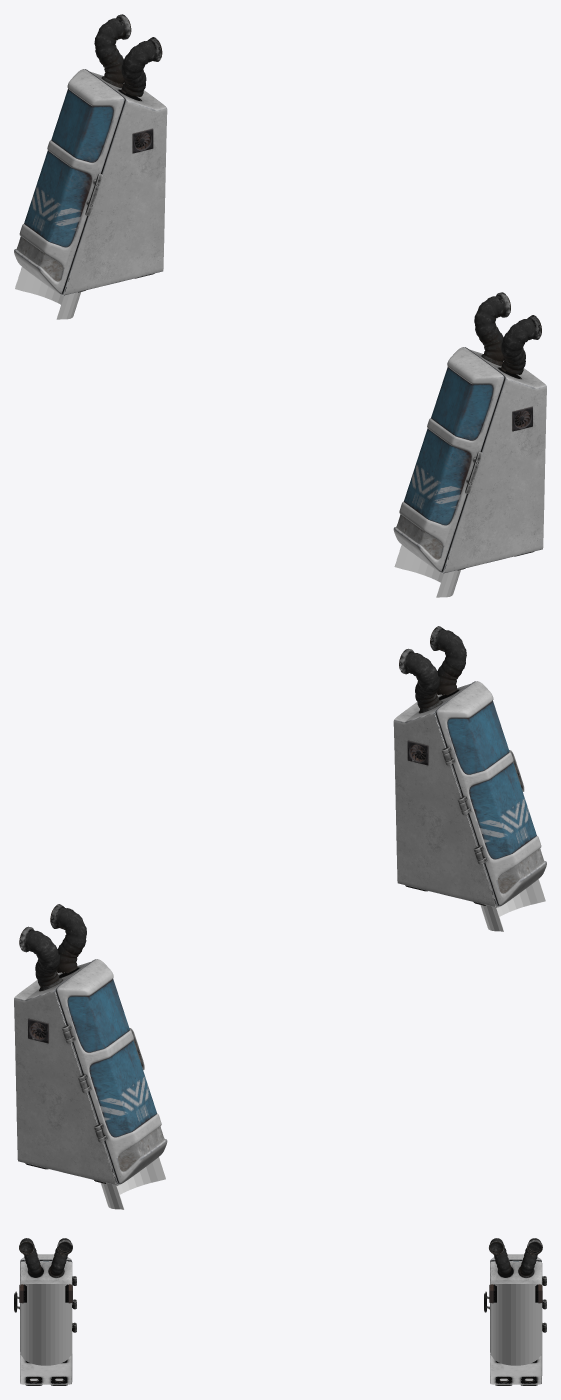
File: spaceshiproom.gltf
3 views of the same model, one above another, from view 1: azimuth 30°, elevation 25°; view 2: azimuth 150°, elevation 25°; view 3: azimuth 270°, elevation 25° (orthographic). The views are drawn at different scales.
Parts seen in each view (by area): view 1: Chaber.001, Chaber, Door.001, Door, Bed.001, Bed; view 2: Chaber.001, Chaber, Door.001, Door, Bed, Bed.001; view 3: Bed, Bed.001, Chaber.001, Chaber, Door, Door.001.
Boxes of the visible parts, bbox=[...] form: Chaber.001: bbox=[60, 14, 167, 295]; Chaber: bbox=[440, 292, 546, 573]; Door.001: bbox=[14, 69, 126, 294]; Door: bbox=[393, 347, 506, 572]; Bed.001: bbox=[15, 101, 126, 319]; Bed: bbox=[394, 380, 505, 597]; Chaber.001: bbox=[14, 904, 120, 1185]; Chaber: bbox=[393, 626, 500, 907]; Door.001: bbox=[54, 959, 167, 1184]; Door: bbox=[434, 681, 546, 906]; Bed: bbox=[434, 712, 545, 931]; Bed.001: bbox=[55, 992, 165, 1209]; Bed: bbox=[20, 1284, 72, 1365]; Bed.001: bbox=[490, 1284, 541, 1365]; Chaber.001: bbox=[489, 1238, 542, 1385]; Chaber: bbox=[19, 1238, 73, 1385]; Door: bbox=[14, 1254, 76, 1352]; Door.001: bbox=[484, 1254, 546, 1352].
Size of the model in its own units: 2.97 by 6.24 by 18.39.
Materials: 4 (2 with a texture image).
